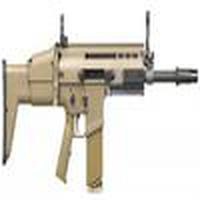gun: (1, 25, 196, 161)
